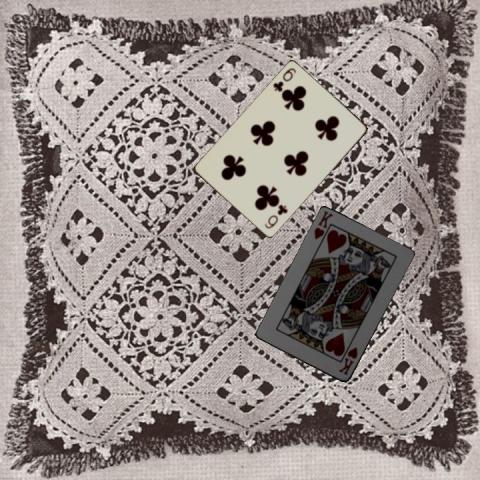6c: (261, 202, 289, 231), (270, 66, 297, 94)
Kh: (336, 344, 360, 377), (311, 208, 335, 241)
